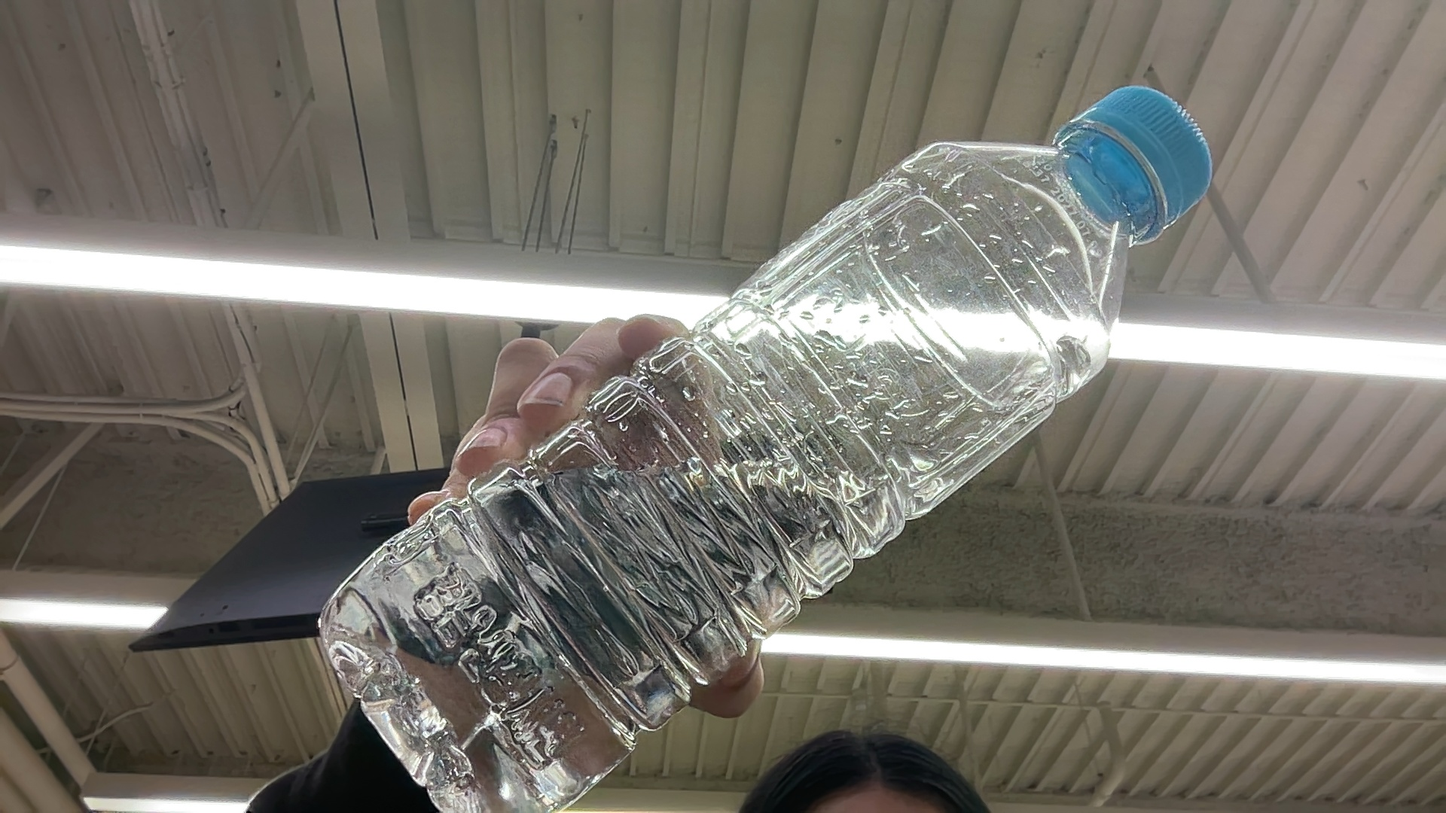Plastic: (1052, 83, 1210, 244)
